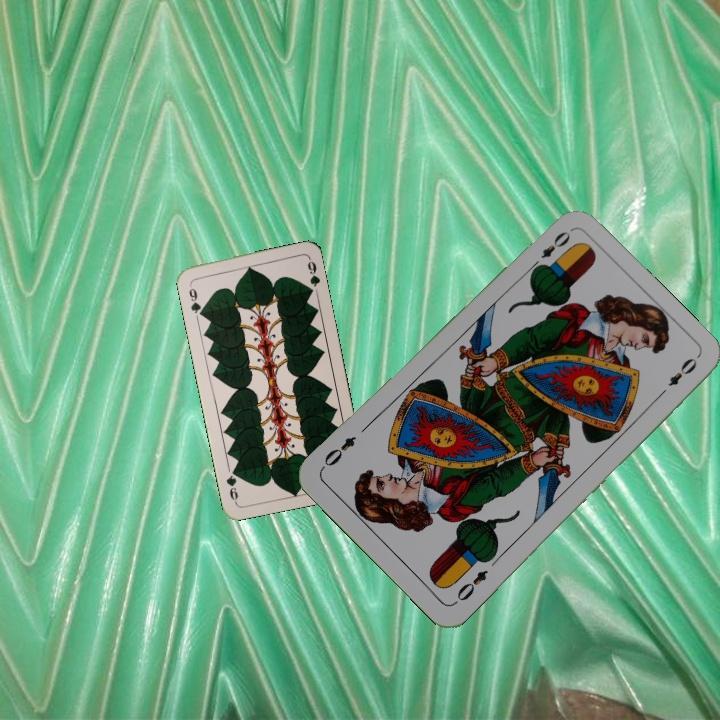EO: (526, 226, 573, 273), (450, 565, 491, 607)
G9: (185, 280, 206, 319)
